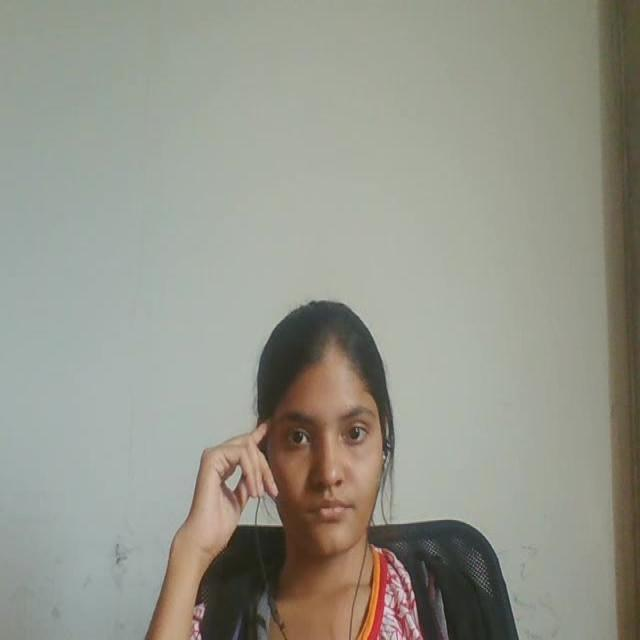Engaged: (231, 281, 409, 571)
